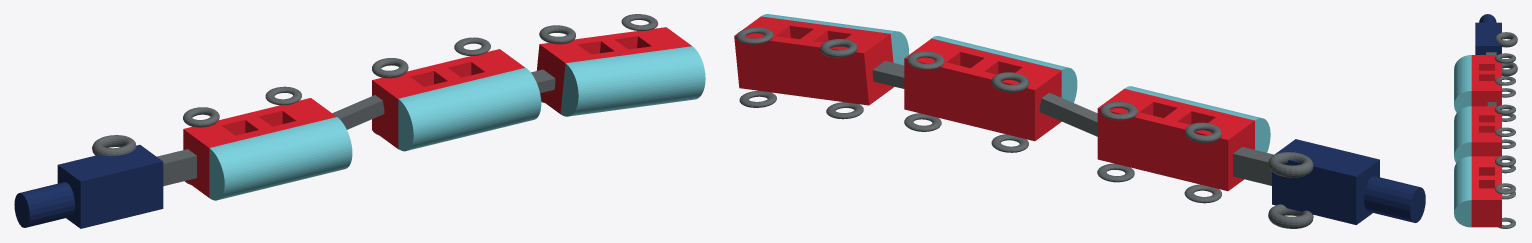
Rendered from tinker.obj.
The picture shows the model from 3 angles, left to right: view 1: azimuth 30°, elevation 25°; view 2: azimuth 150°, elevation 25°; view 3: azimuth 270°, elevation 25°; orthographic projection. The views are drawn at different scales.
Visible parts, largest first — view 1: group_0_7720667, group_0_15277357, group_0_1650274, group_0_6383466; view 2: group_0_15277357, group_0_6383466, group_0_1650274, group_0_7720667; view 3: group_0_15277357, group_0_7720667, group_0_6383466, group_0_1650274.
Boxes of the visible parts, left/top/right/bottom form: group_0_7720667: left=209, top=46, right=705, bottom=200; group_0_15277357: left=183, top=27, right=691, bottom=197; group_0_1650274: left=14, top=145, right=163, bottom=228; group_0_6383466: left=92, top=14, right=657, bottom=186; group_0_15277357: left=734, top=16, right=1254, bottom=191; group_0_6383466: left=736, top=27, right=1313, bottom=228; group_0_1650274: left=1272, top=139, right=1425, bottom=224; group_0_7720667: left=761, top=14, right=1270, bottom=152; group_0_15277357: left=1471, top=55, right=1501, bottom=227; group_0_7720667: left=1454, top=55, right=1471, bottom=227; group_0_6383466: left=1486, top=32, right=1517, bottom=228; group_0_1650274: left=1475, top=14, right=1501, bottom=54.
Size of the model in its own units: 247 by 30.14 by 36.
